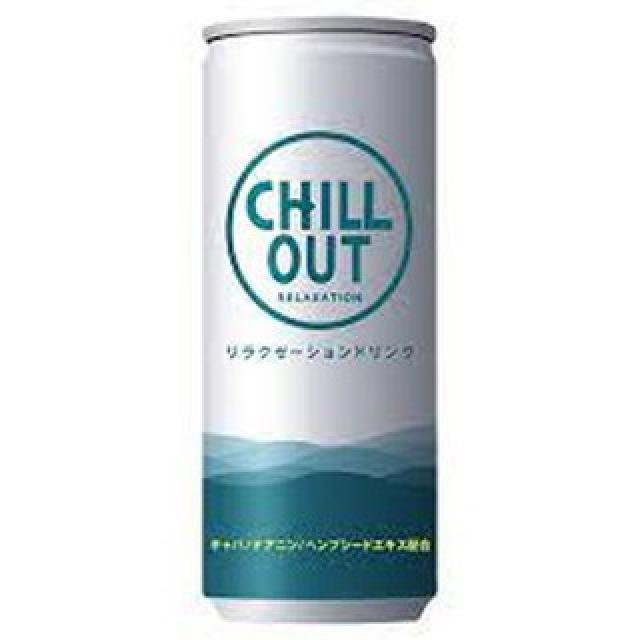can: (196, 20, 436, 625)
